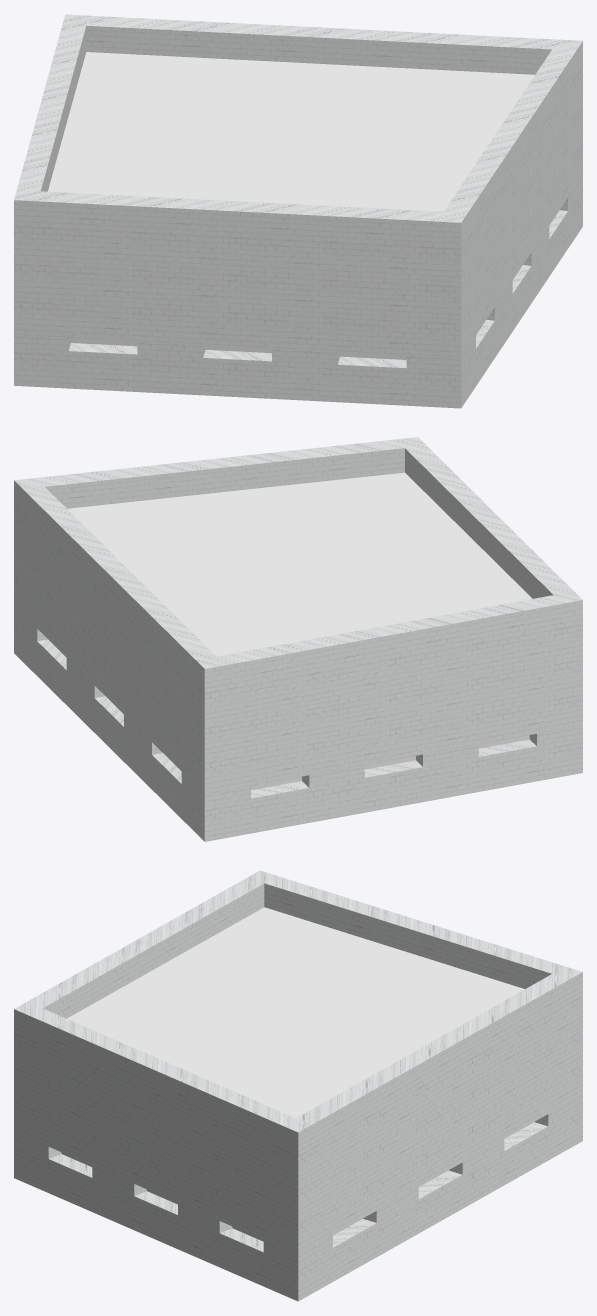
The model's file is clohble9902p94p02sqxbyqfi_0.glb.
The picture shows the model from 3 angles, top to bottom: view 1: azimuth 30°, elevation 25°; view 2: azimuth 150°, elevation 25°; view 3: azimuth 270°, elevation 25°; orthographic projection. The views are drawn at different scales.
Visible parts, largest first — view 1: mesh_Brick_1, mesh_CityEnginePBRShader, mesh_Brick, mesh_Glass; view 2: mesh_Brick_1, mesh_CityEnginePBRShader, mesh_Brick, mesh_Glass; view 3: mesh_Brick_1, mesh_CityEnginePBRShader, mesh_Brick.
Boxes of the visible parts, x1=… form: mesh_Brick_1: x1=14, y1=14, x2=582, y2=408; mesh_CityEnginePBRShader: x1=48, y1=52, x2=534, y2=211; mesh_Brick: x1=35, y1=185, x2=576, y2=369; mesh_Glass: x1=71, y1=337, x2=406, y2=359; mesh_Brick_1: x1=14, y1=437, x2=582, y2=841; mesh_CityEnginePBRShader: x1=67, y1=472, x2=532, y2=656; mesh_Brick: x1=23, y1=615, x2=564, y2=803; mesh_Glass: x1=251, y1=735, x2=529, y2=790; mesh_Brick_1: x1=14, y1=870, x2=582, y2=1301; mesh_CityEnginePBRShader: x1=67, y1=907, x2=524, y2=1117; mesh_Brick: x1=27, y1=1102, x2=569, y2=1260.
Bounding box in the file's own units: 14.16 × 4.26 × 12.99.
4 materials, 2 textured.
